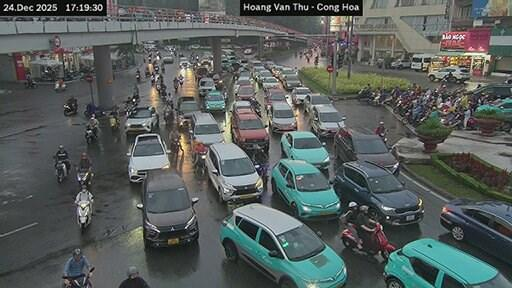motorbike: (341, 224, 394, 260), (61, 266, 93, 287), (250, 147, 268, 181), (76, 202, 90, 232), (54, 156, 66, 183), (83, 103, 105, 116), (83, 122, 96, 143), (194, 151, 205, 175), (249, 98, 259, 116), (77, 170, 89, 185), (170, 138, 182, 153), (358, 86, 371, 99), (163, 108, 172, 125), (109, 113, 118, 130), (64, 103, 76, 115), (377, 130, 387, 143), (54, 81, 64, 90), (441, 76, 457, 81), (25, 80, 37, 86), (154, 82, 160, 91), (346, 223, 355, 228), (173, 82, 178, 91), (135, 73, 140, 81), (144, 70, 150, 76), (150, 75, 153, 84), (160, 64, 163, 72), (153, 66, 157, 72), (179, 79, 182, 86), (460, 80, 461, 81)
